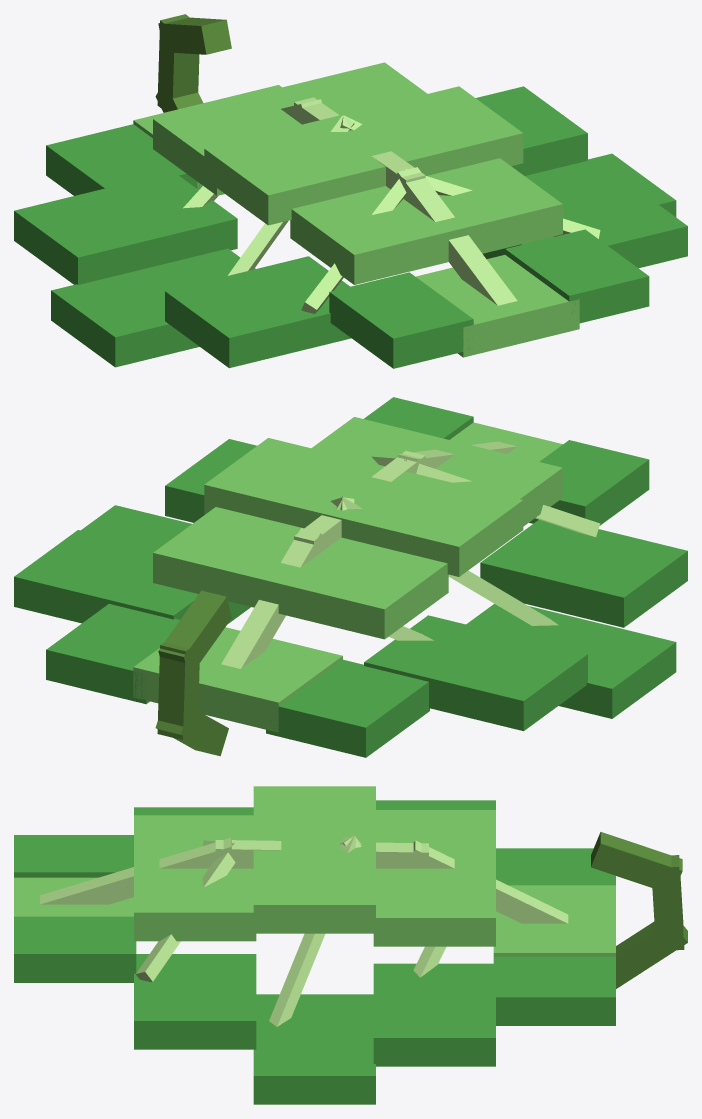
File: leaf-hat-blocky.glb
The picture shows the model from 3 angles, top to bottom: view 1: azimuth 30°, elevation 25°; view 2: azimuth 150°, elevation 25°; view 3: azimuth 270°, elevation 25°; orthographic projection. The views are drawn at different scales.
Parts seen in each view (by area): view 1: leaf-hat; view 2: leaf-hat; view 3: leaf-hat.
Part boxes in pixels (x1=…): leaf-hat: x1=14, y1=14, x2=687, y2=368; leaf-hat: x1=14, y1=397, x2=687, y2=757; leaf-hat: x1=14, y1=786, x2=687, y2=1104.
Bounding box in the file's own units: 0.1753 × 0.0469 × 0.1911.
